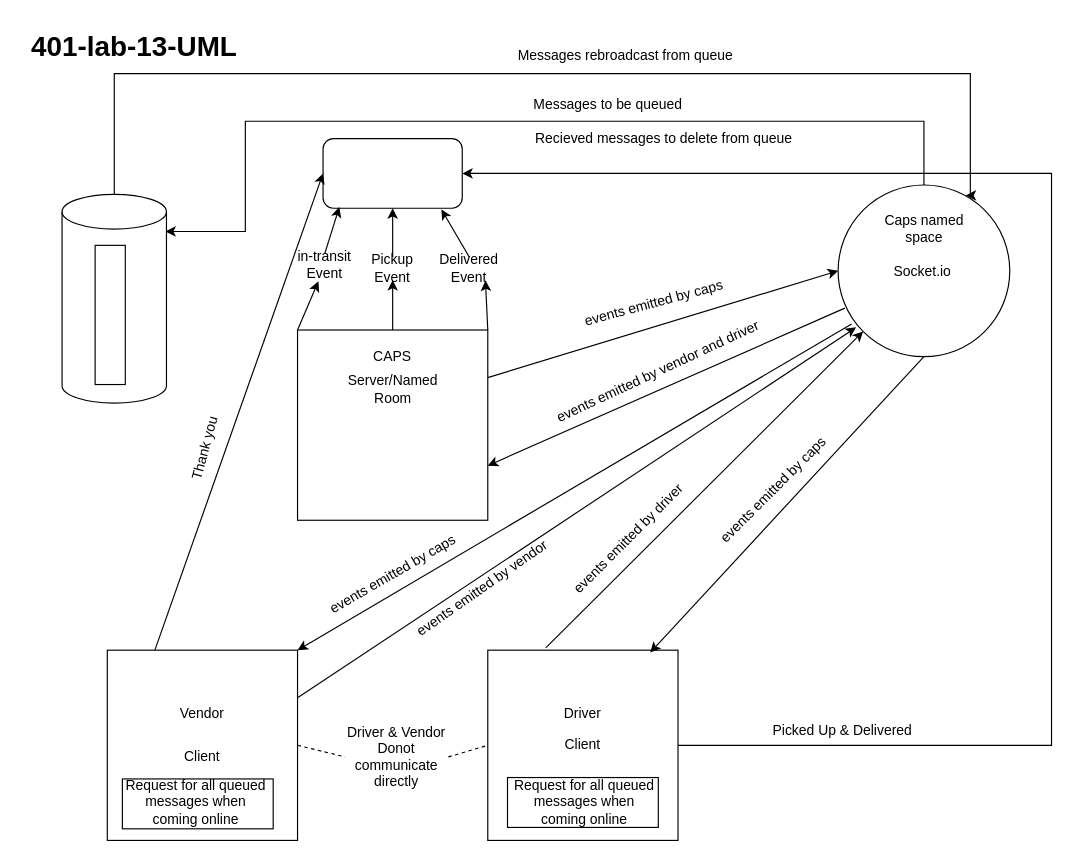
The diagram is 1081 pixels wide and 861 high, and some of its shapes have lost their labels. The shapes that lost their labels are listed below. From the top down, each one's centre as x and y in pixels, then its label:
the point at 392,172: Console
the point at 109,314: Message Queue
